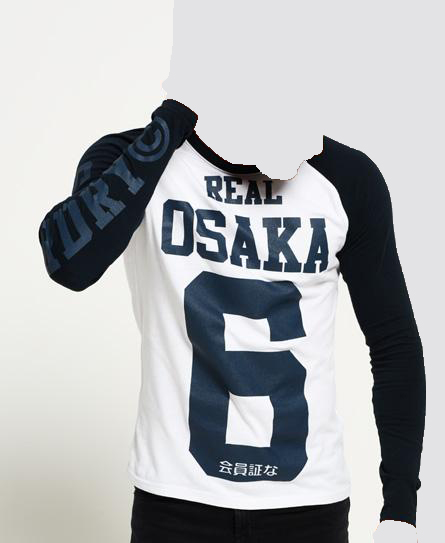teeshirt: (35, 98, 434, 528)
